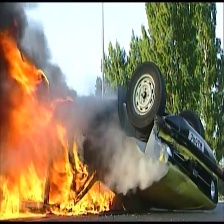fire: (1, 22, 117, 219)
